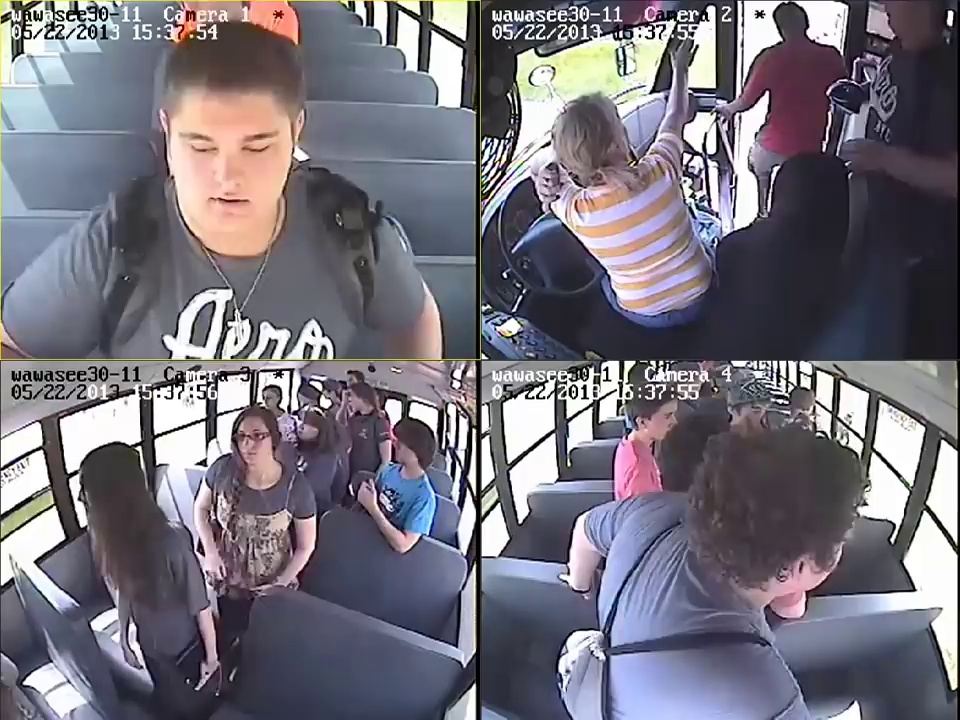face: (174, 90, 283, 226), (642, 403, 683, 440), (238, 421, 272, 465), (390, 429, 416, 463), (293, 415, 318, 445), (347, 387, 368, 411), (260, 388, 279, 410)
